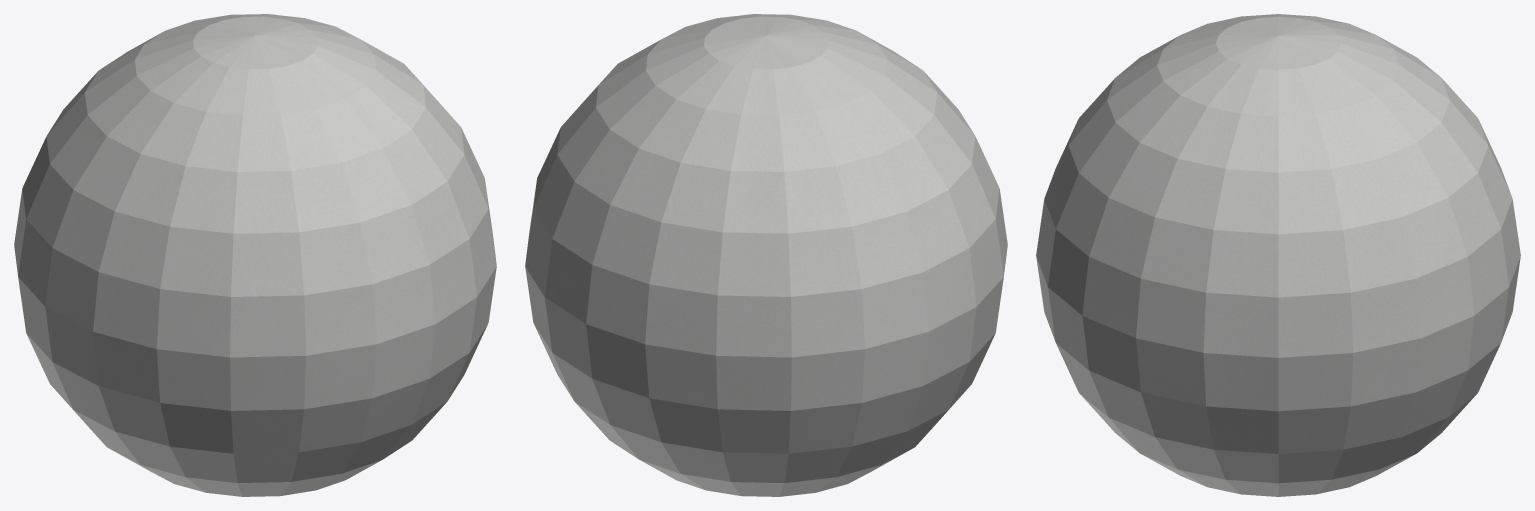
Rendered from ball.gltf.
3 views of the same model, side by side, from view 1: azimuth 30°, elevation 25°; view 2: azimuth 150°, elevation 25°; view 3: azimuth 270°, elevation 25° (orthographic).
Visible parts, largest first — view 1: jx_ball; view 2: jx_ball; view 3: jx_ball.
Boxes of the visible parts, box(x1,y1,x2,y2) form: jx_ball: box(14, 14, 496, 496); jx_ball: box(525, 14, 1007, 496); jx_ball: box(1036, 14, 1520, 496).
Size of the model in its own units: 0.72 by 0.72 by 0.72.
1 material, 1 textured.
